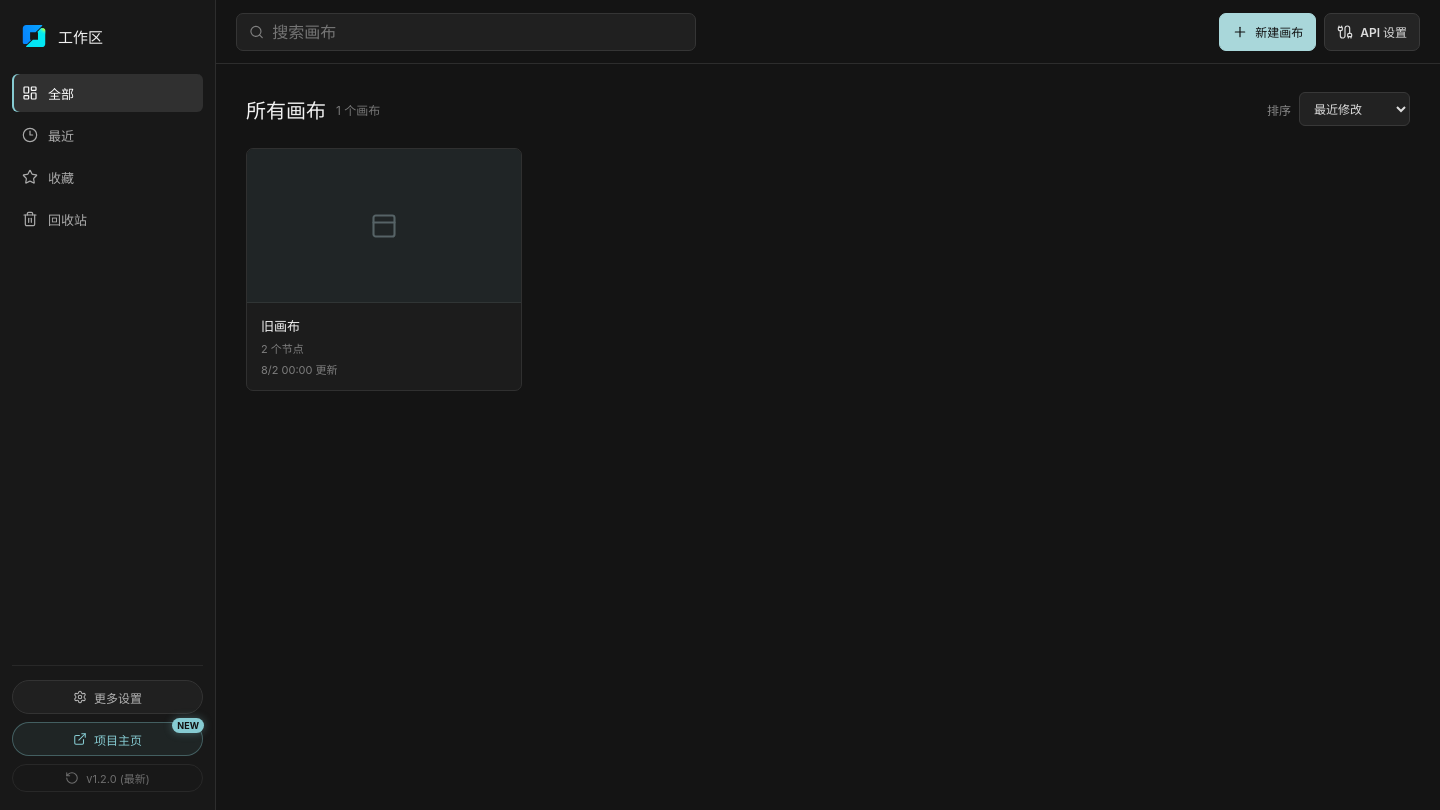
Test: workspace thumbnail integration › opens SettingsModal when clicking 更多设置 from rail footer
The image size is (1440, 810).
Click the button with aria-label "系统设置". click: (108,697)
box: left=12, top=680, right=203, bottom=714
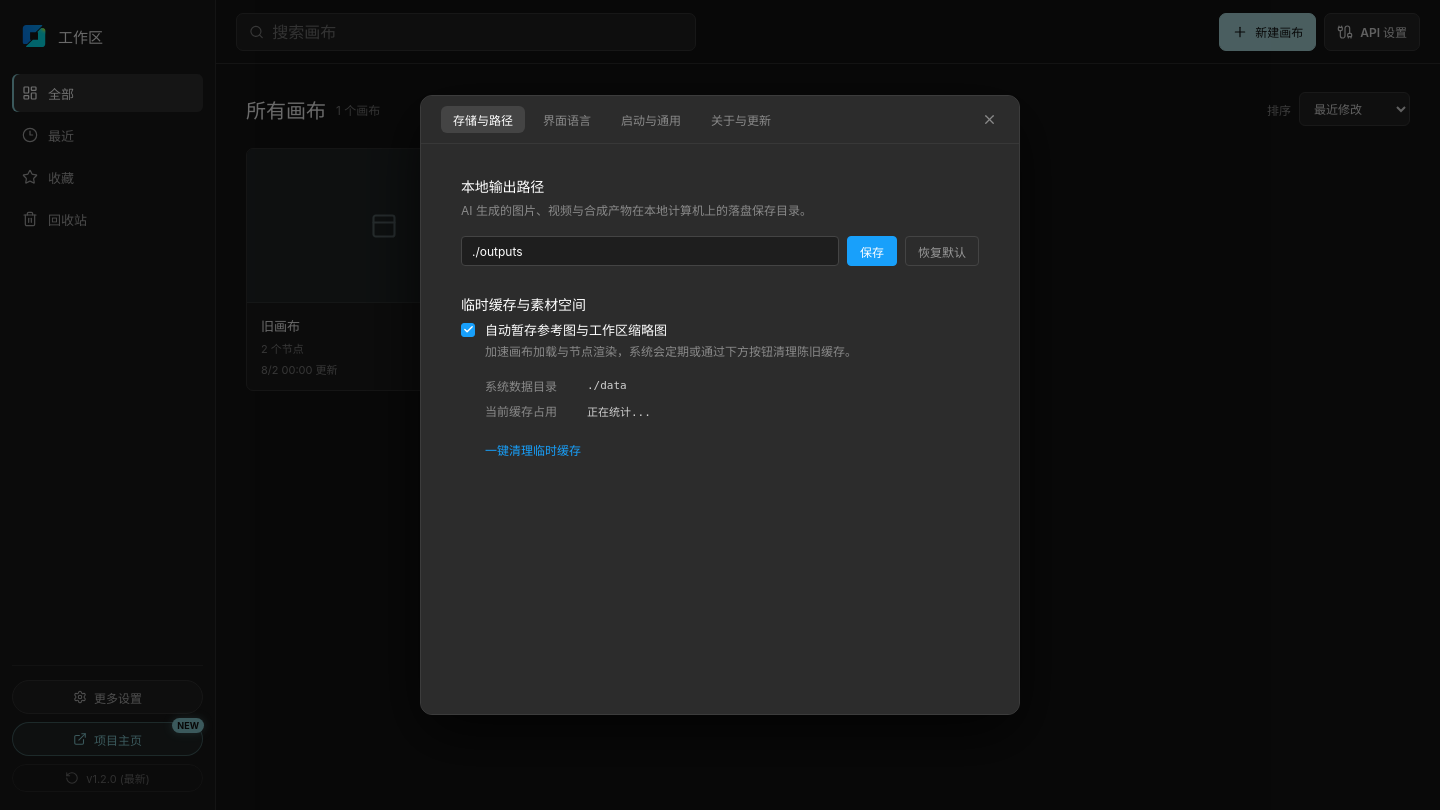
expect the dialog named "系统设置" is shown: met, box left=420, top=95, right=1020, bottom=715
